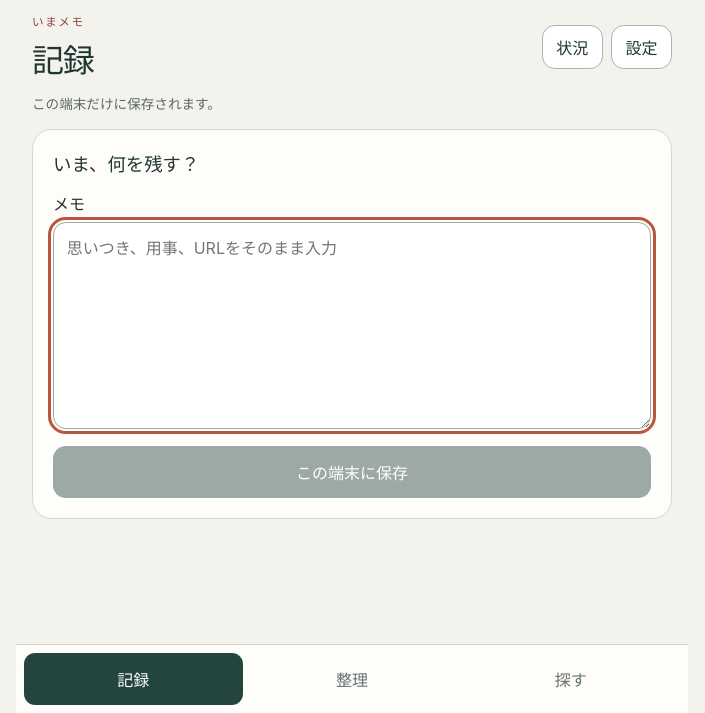
Test: App › shows fixed tabs, saves a memo, and hides inbox count until details open
The width and height of the screenshot is (705, 713).
Expected: the navigation bar named "メイン" is shown, [16,644,688,712]
Expected: the text "受信箱 0件" is not shown
Click the button "状況". click: (572, 47)
box: [542,25,603,69]
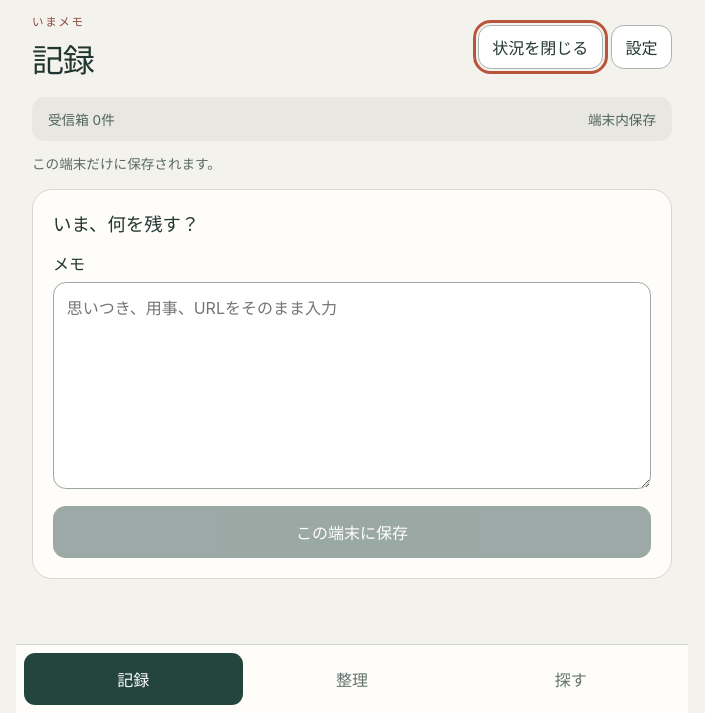
Result: the text "受信箱 0件" is shown at [48,109,115,129]
Type "Read https://example.com" into the text box labelled "メモ". click: (352, 385)
box: [53,282,651,489]
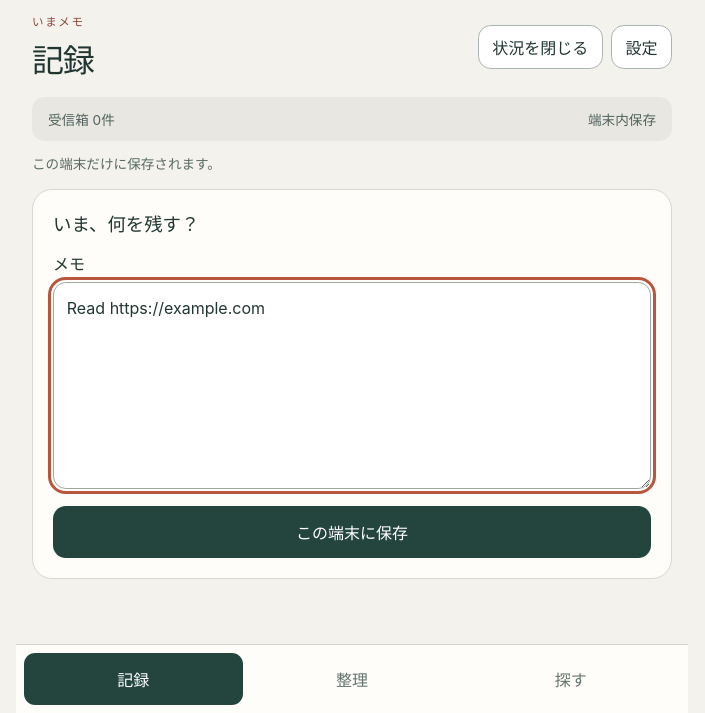
Click the button "この端末に保存". click: (352, 532)
box: [53,506,651,558]
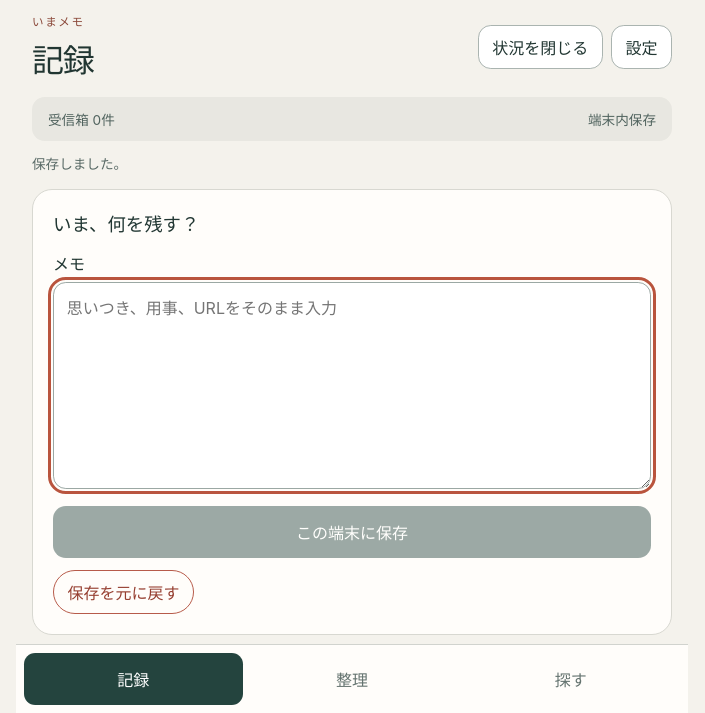
Result: the text box labelled "メモ" is empty at [53,282,651,489]
Result: the button "保存を元に戻す" is shown at [53,570,194,614]
